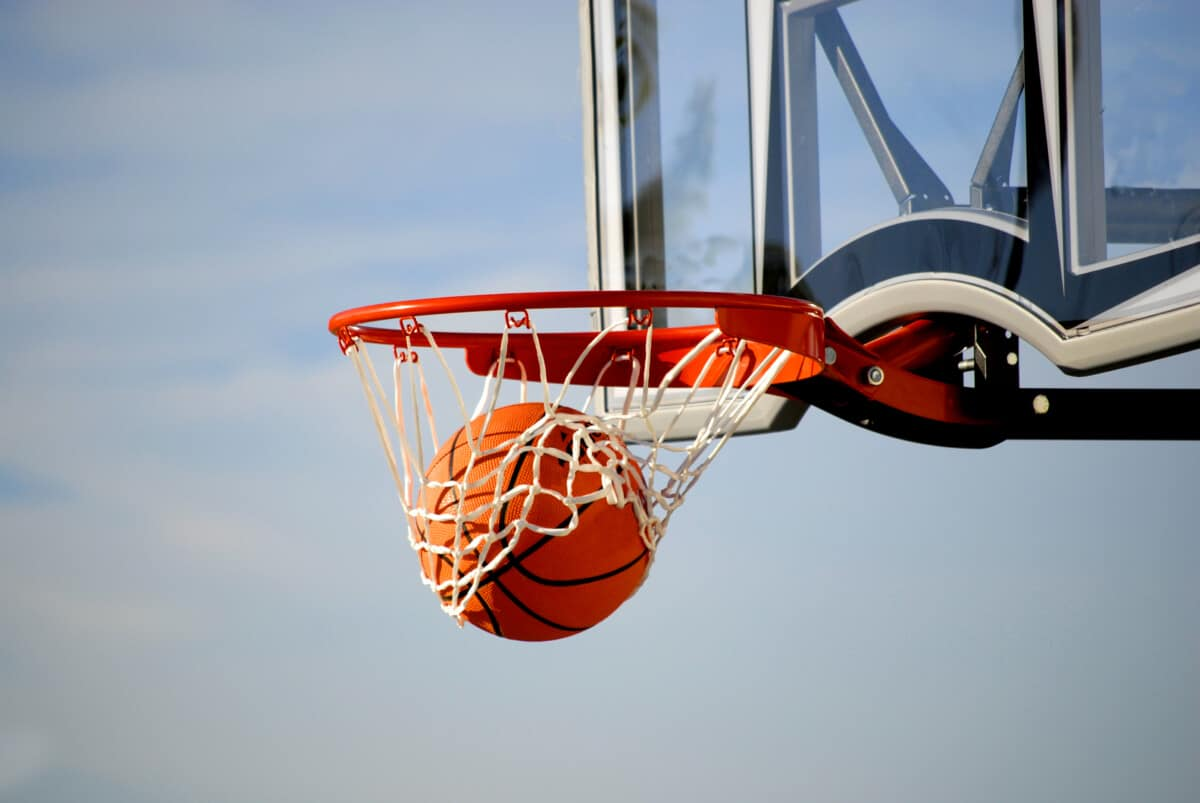MadeBasket: (331, 290, 822, 642)
